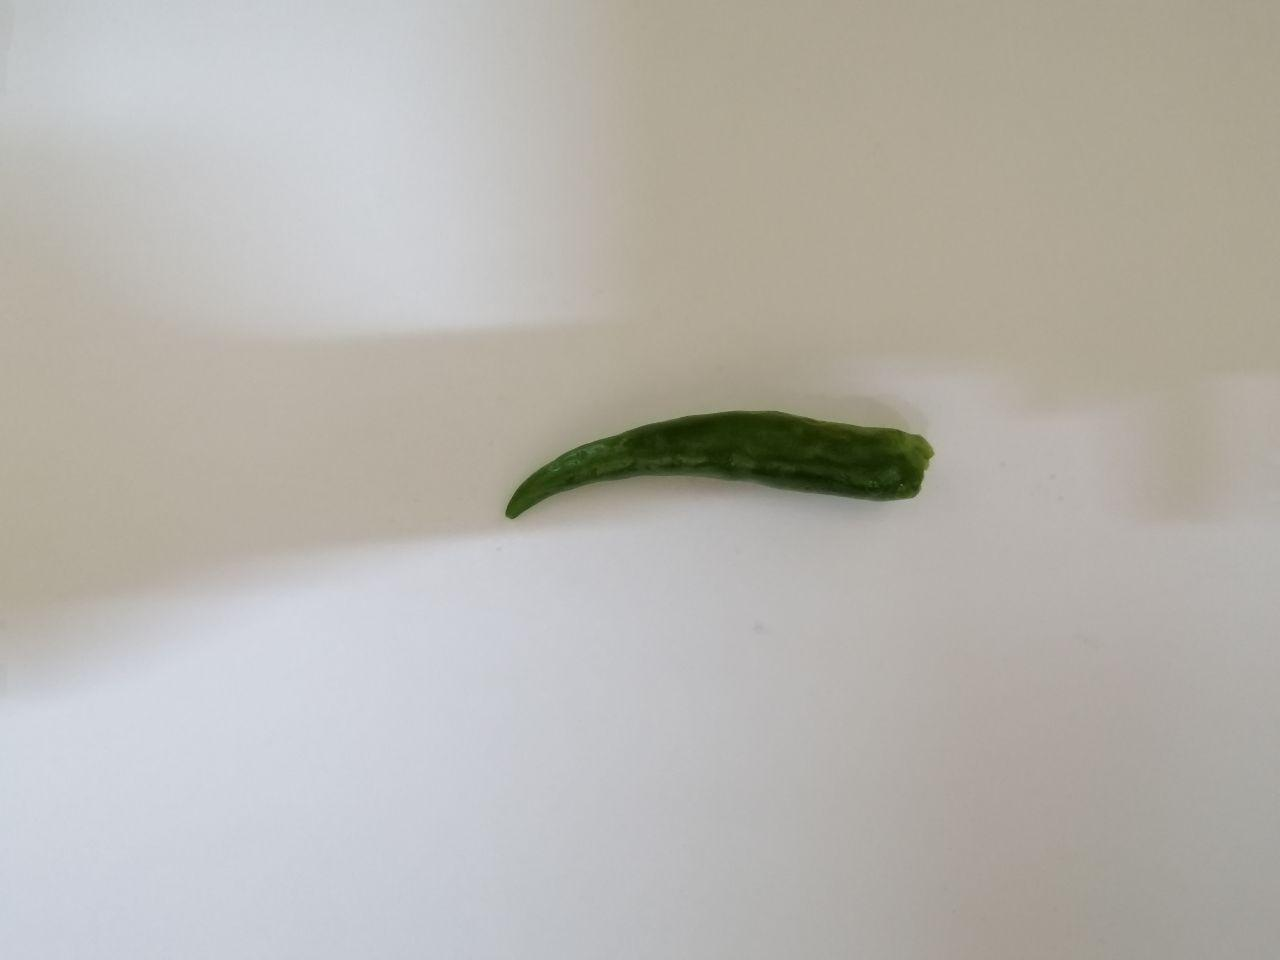lada hijau: (493, 383, 958, 567)
